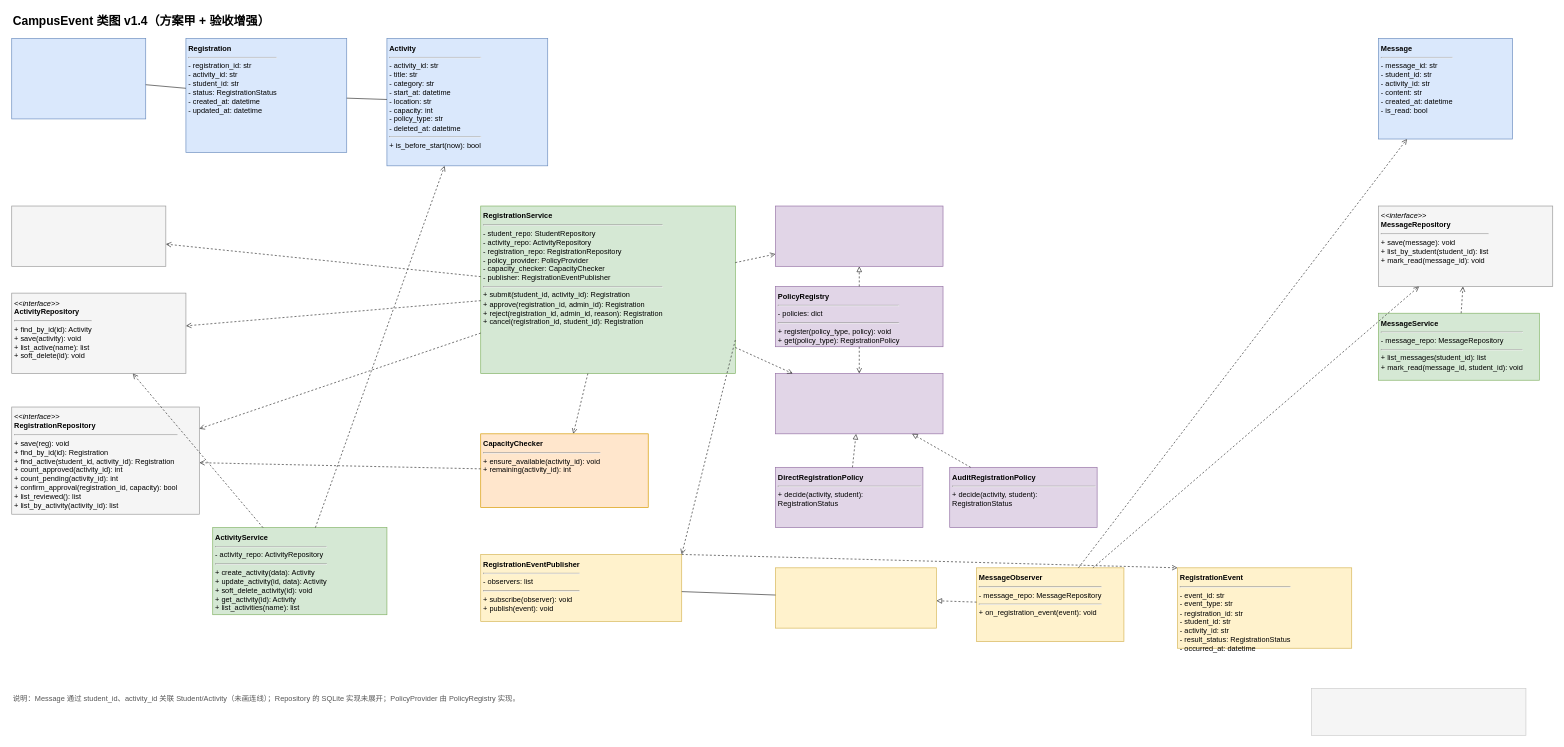
Image size: 1564x747. Some labels were removed from this diagram. The shapes that lost their labels are listed below. From the top down, each one's centre as x and y in pixels, then its label:
[78,78]: Student - student_id: str - name: str
[88,235]: <<interface>> StudentRepository + find_by_id(id): Student
[859,235]: <<interface>> PolicyProvider + get(policy_type): RegistrationPolicy
[859,403]: <<interface>> RegistrationPolicy + decide(activity, student): RegistrationStatus
[855,597]: <<interface>> RegistrationObserver + on_registration_event(event): void
[1418,711]: 版本：v1.4 | 日期：2026-11-23 | 阶段：CR 前基线段（baseline-v1） | 方案：甲
